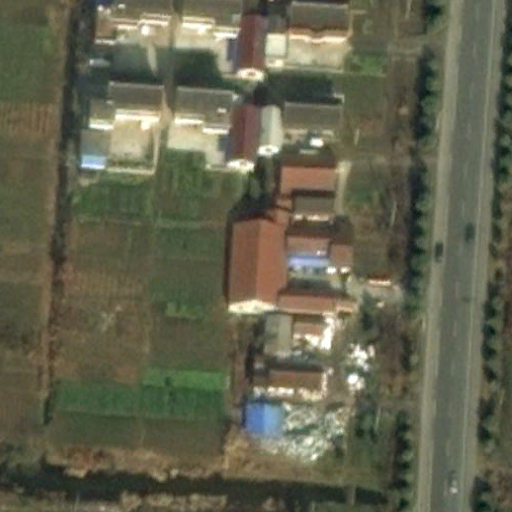msw: (282, 399, 350, 465)
